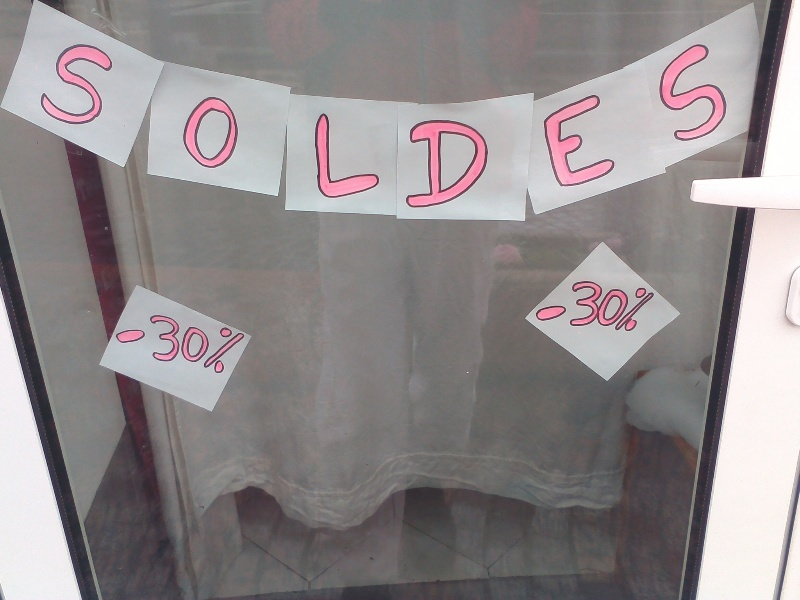text: (657, 40, 672, 155), (673, 40, 688, 155), (689, 40, 704, 155), (705, 40, 720, 155), (721, 40, 735, 155), (545, 90, 560, 193), (561, 90, 576, 193), (577, 90, 592, 193), (593, 90, 608, 193), (81, 36, 96, 138), (97, 36, 112, 138), (369, 109, 385, 204), (321, 109, 336, 204), (337, 109, 352, 204), (353, 109, 368, 204), (417, 116, 432, 211), (433, 116, 448, 211), (449, 116, 464, 211), (465, 116, 480, 211), (67, 36, 80, 138), (145, 300, 160, 386), (161, 300, 176, 386), (177, 300, 192, 386), (193, 300, 208, 386), (209, 300, 224, 386), (225, 300, 240, 386), (481, 116, 494, 211), (193, 99, 208, 176), (209, 99, 224, 176), (225, 99, 240, 176), (609, 90, 619, 193), (113, 36, 123, 138), (310, 109, 320, 204), (641, 277, 657, 336), (561, 277, 576, 336), (577, 277, 592, 336), (593, 277, 608, 336), (609, 277, 624, 336), (625, 277, 640, 336), (408, 116, 416, 211), (241, 300, 249, 386), (538, 90, 544, 193), (651, 40, 656, 155), (551, 277, 560, 336), (241, 99, 245, 176), (142, 300, 144, 386)
